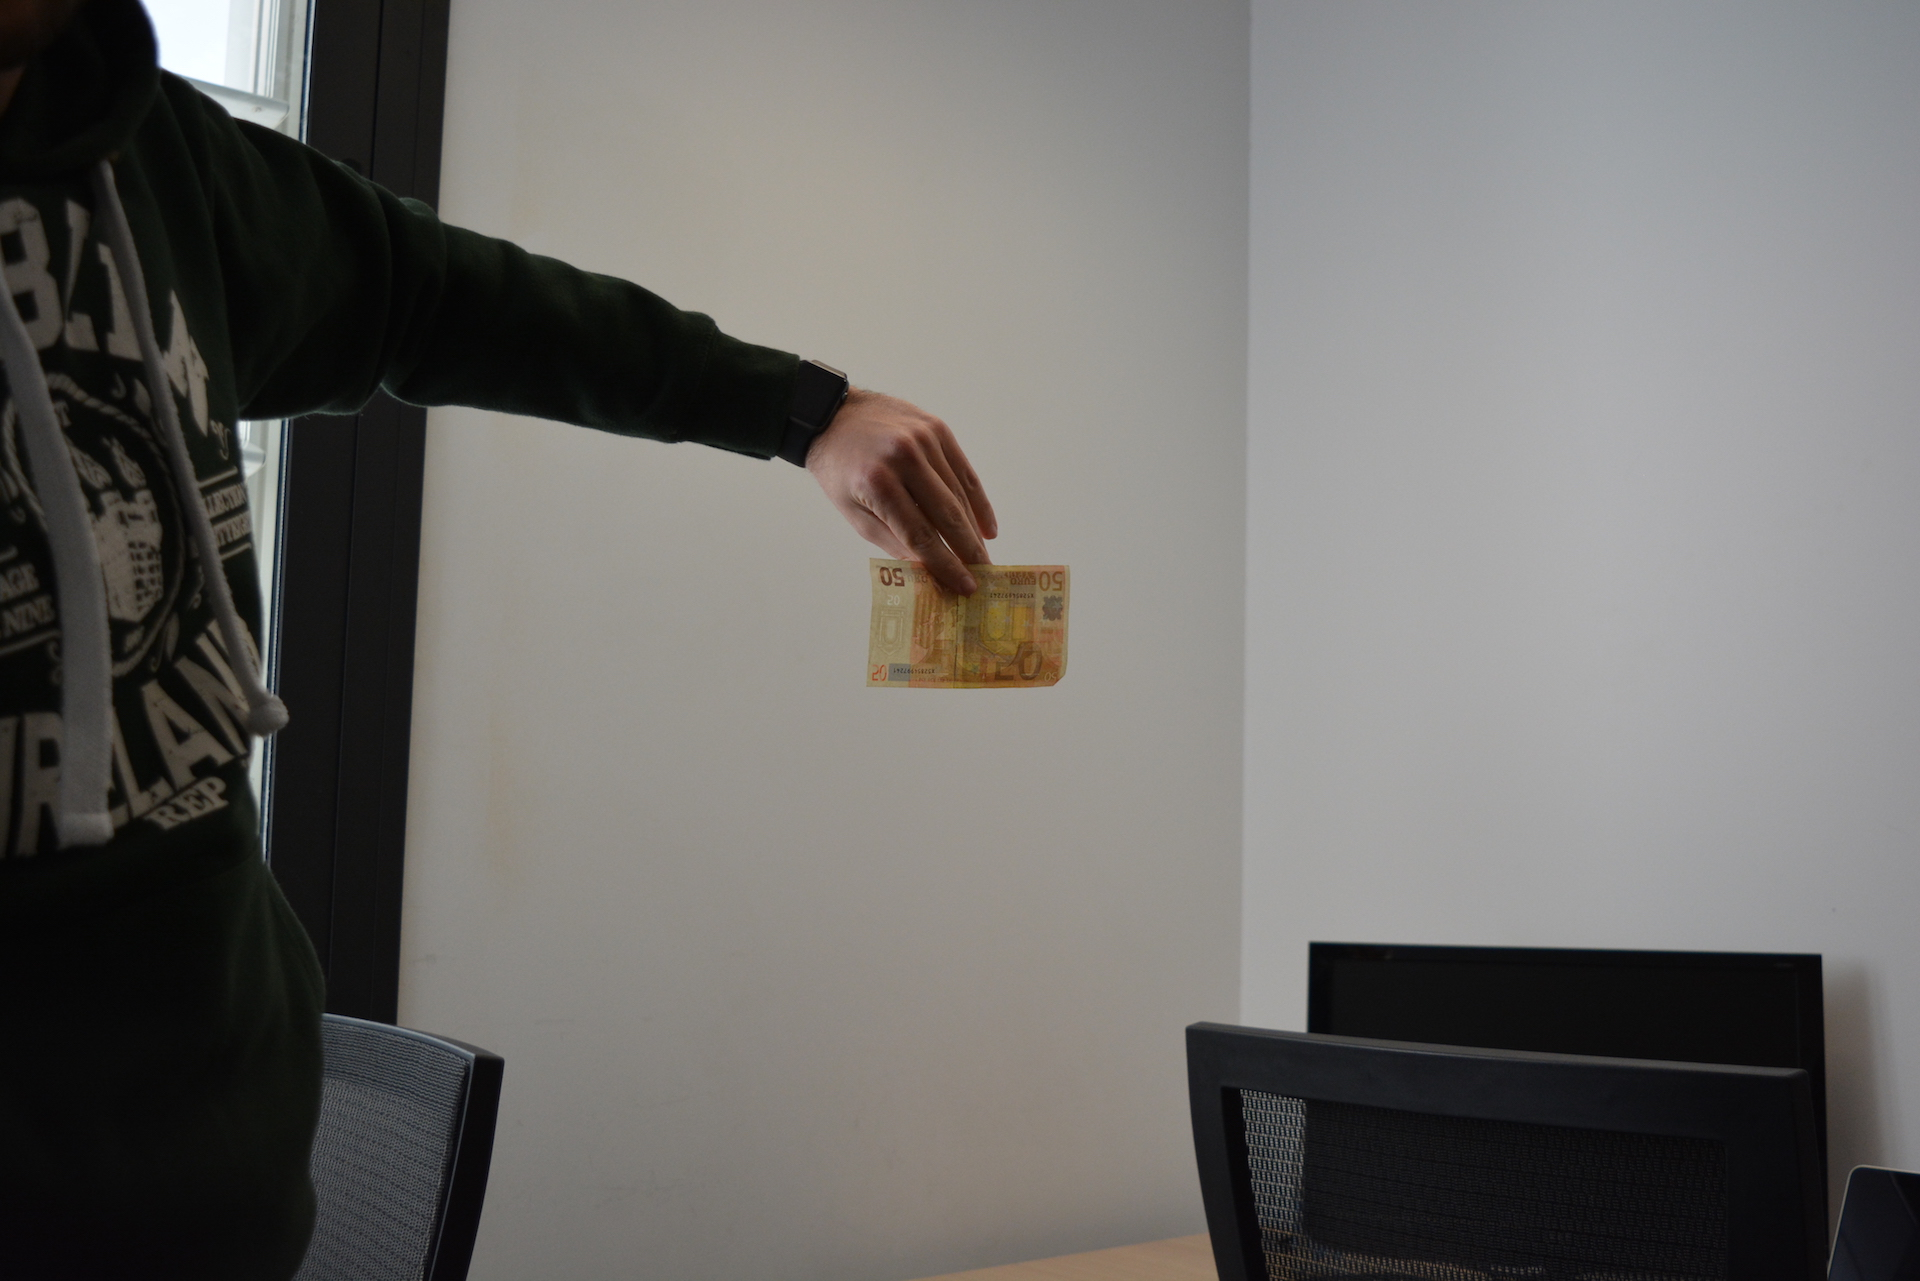billete: (865, 556, 1071, 691)
